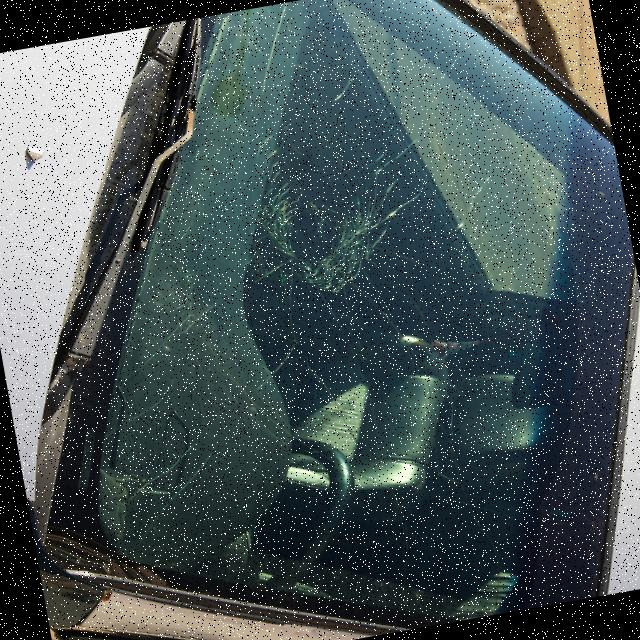Windshield: (34, 64, 516, 526)
